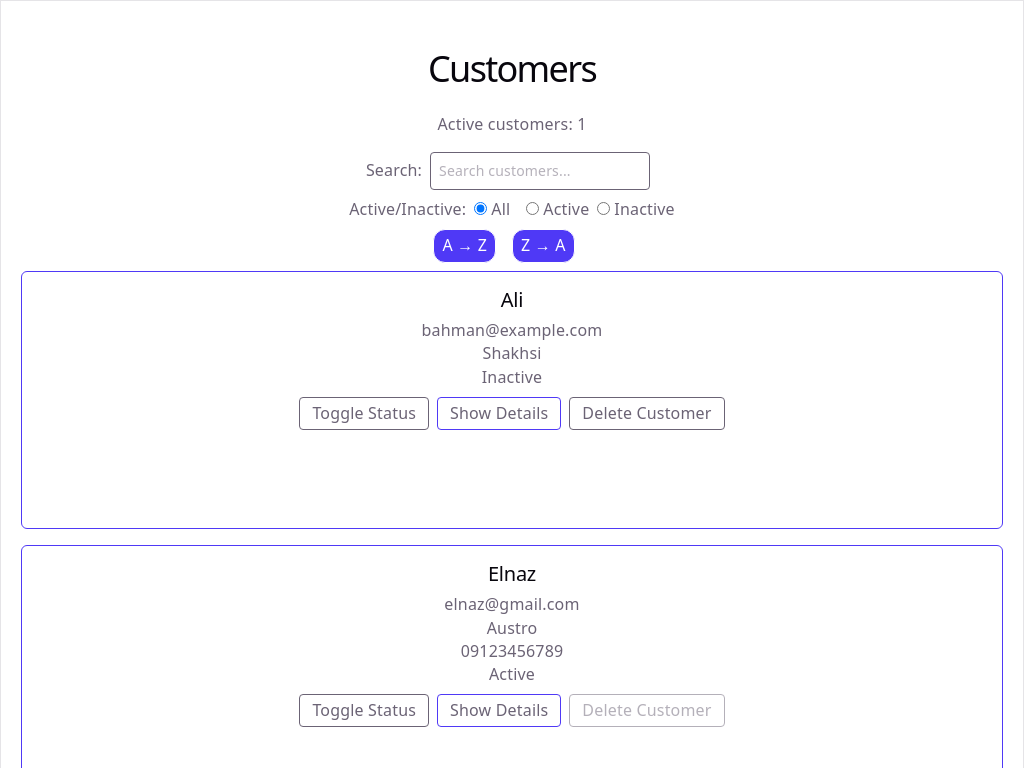
Test case: should delete customer when user confirms
Expected: the heading "Ali" is shown, [501,286,523,313]
Click the button "Delete Customer" below "Shakhsi".
click(647, 413)  # box [569,397,725,430]
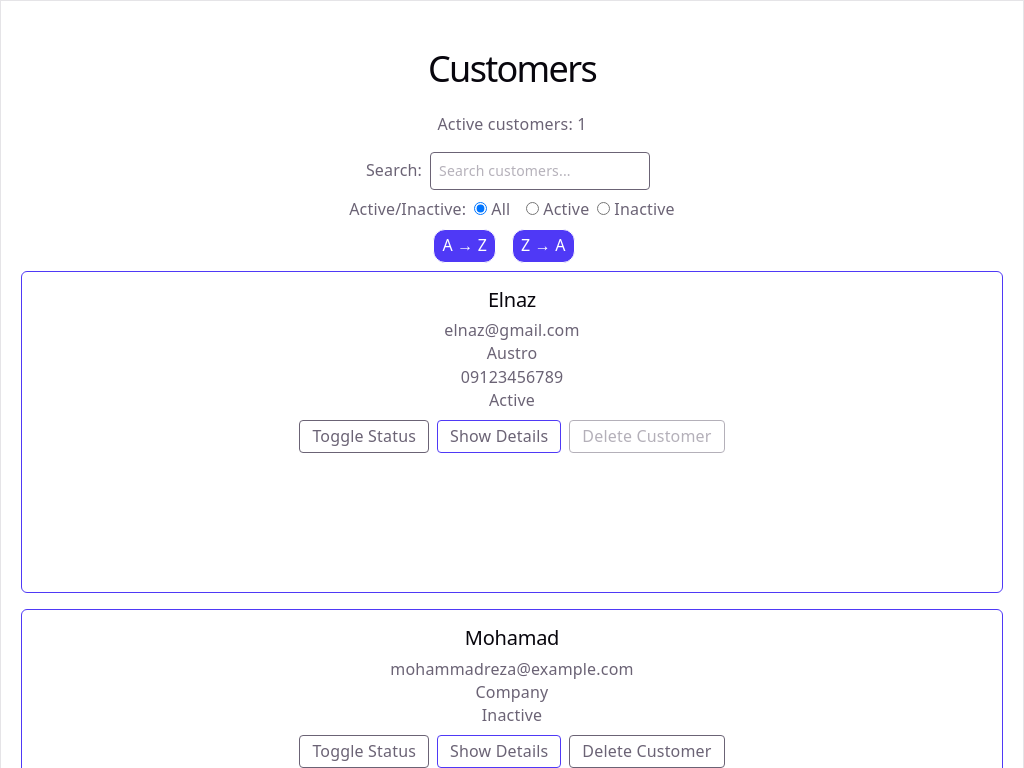
Result: the heading "Ali" is gone
